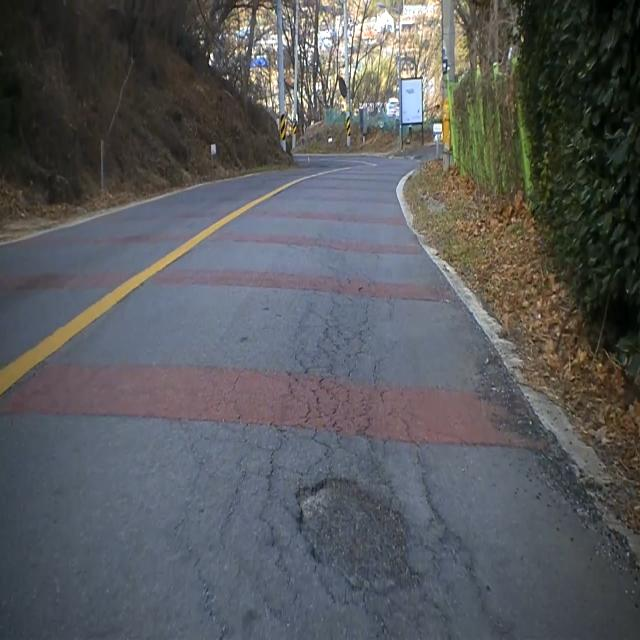Pothole: (279, 462, 426, 607)
